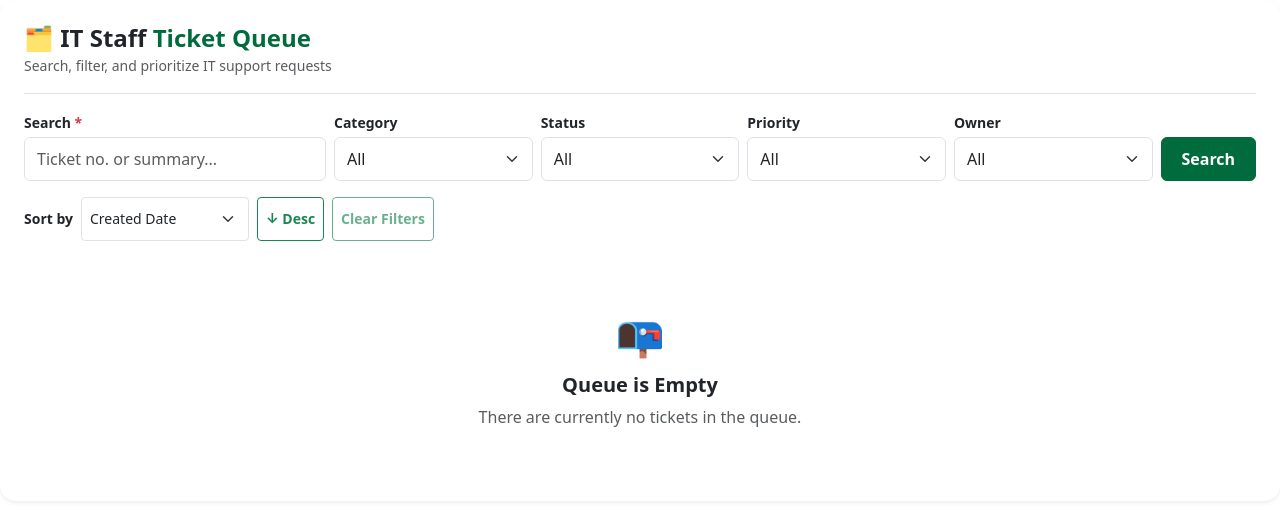
Test: IT Staff Ticket Queue — accessibility, touch targets, and responsiveness › STYLE-03i: StaffTicketQueue Clear Filters button resets search input and all dropdowns
Type "VPN" into the field with test id "queue-search" at (175, 159), box [24,137,326,181]
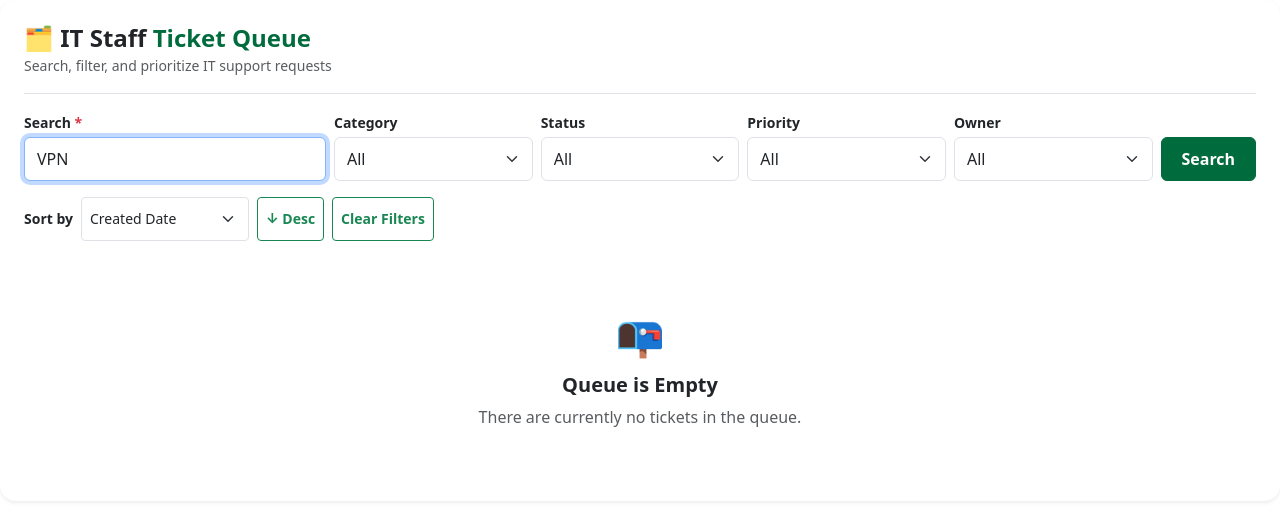
Click the button with test id "queue-search-btn" at (1208, 159), box [1161,137,1256,181]
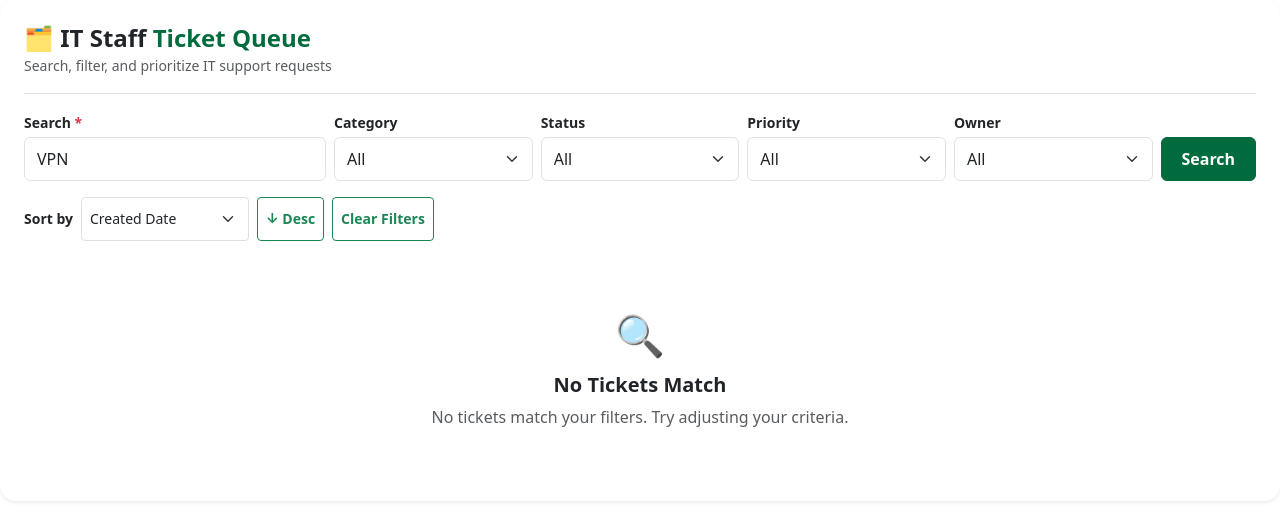
Click the button with test id "queue-clear-filters" at (383, 219), box [332,197,434,241]
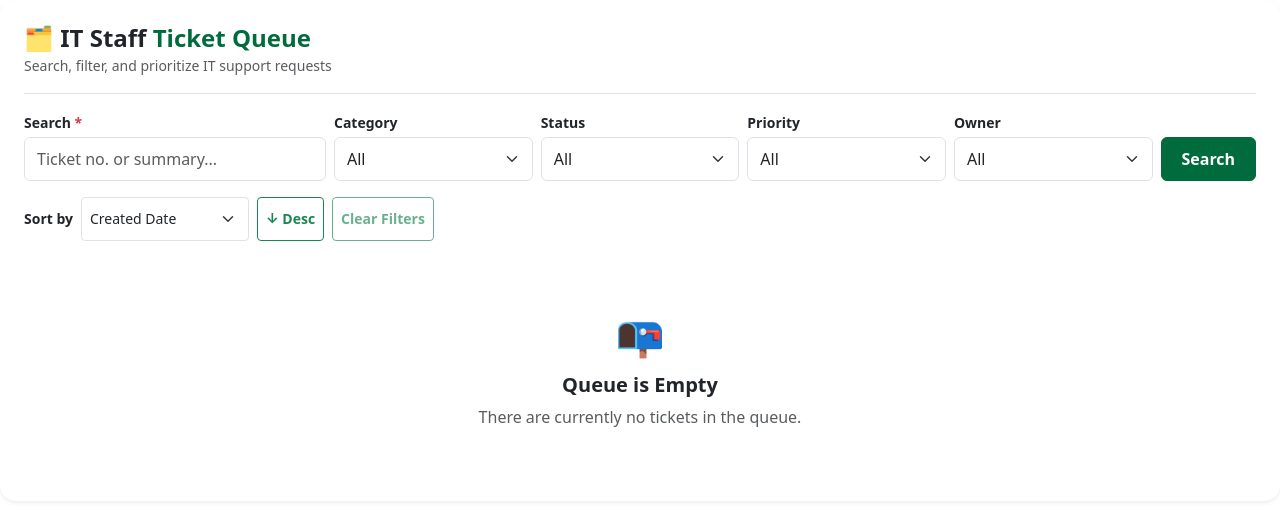
Expected: the dropdown with test id "queue-filter-category" shows "All", [334,137,533,181]
Now the field with test id "queue-search" is empty, box [24,137,326,181]
